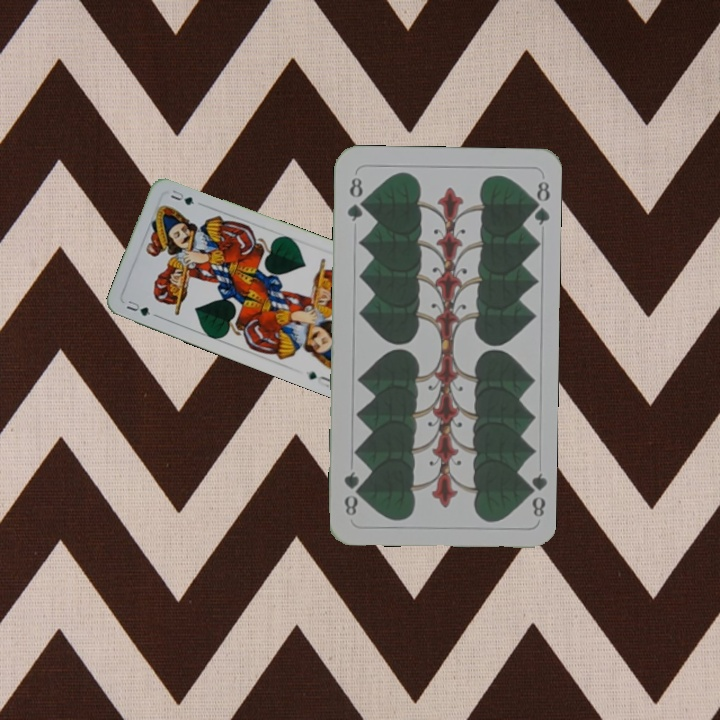G8: (521, 469, 548, 519), (343, 173, 367, 224)
GU: (122, 295, 153, 319)
